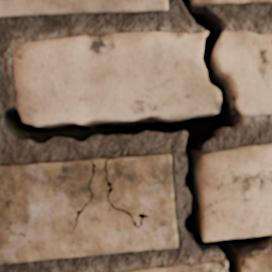brick: (0, 155, 177, 263), (202, 144, 271, 240), (0, 0, 167, 16), (194, 0, 271, 3)
broken_brick: (12, 31, 219, 124), (216, 30, 271, 116), (124, 260, 226, 271), (243, 253, 271, 271)
crack: (0, 0, 270, 271), (103, 158, 152, 229), (72, 159, 96, 229)
